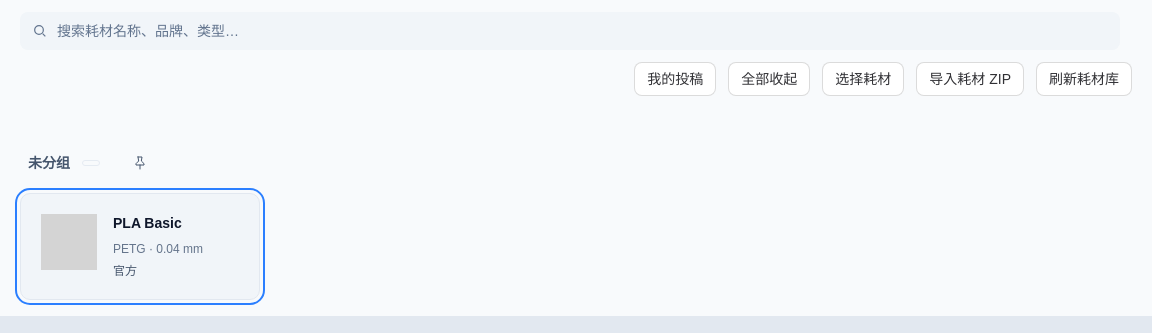
Scenario: MaterialLibraryPanel › renders saved materials from the material library API
The image size is (1152, 333).
Earlier steps of the test are not shown.
Later steps or results of the test are not shown.
Step 1. Click the button "选择耗材" → x=863, y=79, box [822,62,904,96]
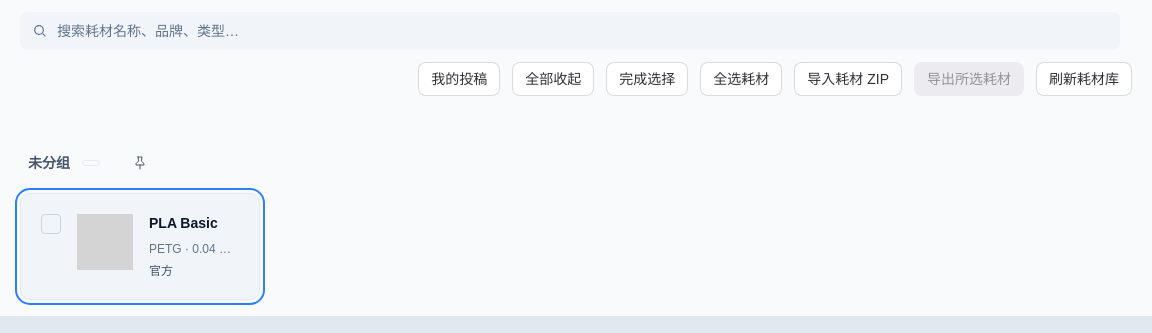
Step 2. Click the button with test id "material-library-item" → x=140, y=247, box [20,193,260,300]
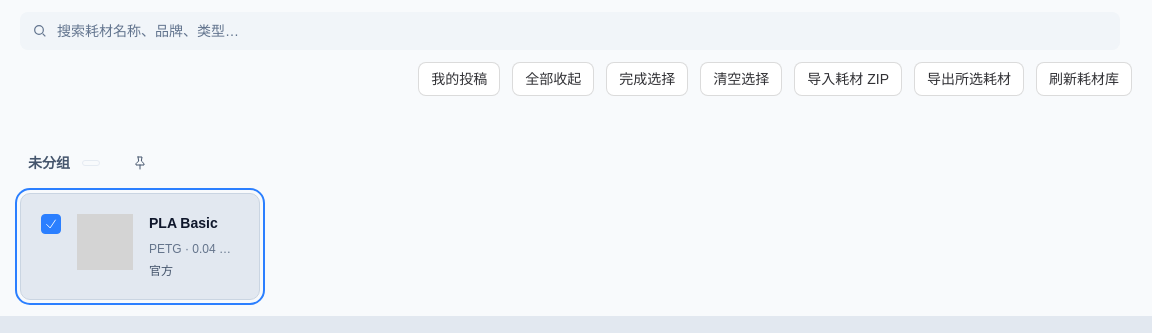
Now the button with test id "material-library-item" is pressed, box [20,193,260,300]
Step 3. Click the button "完成选择" → x=647, y=79, box [606,62,688,96]
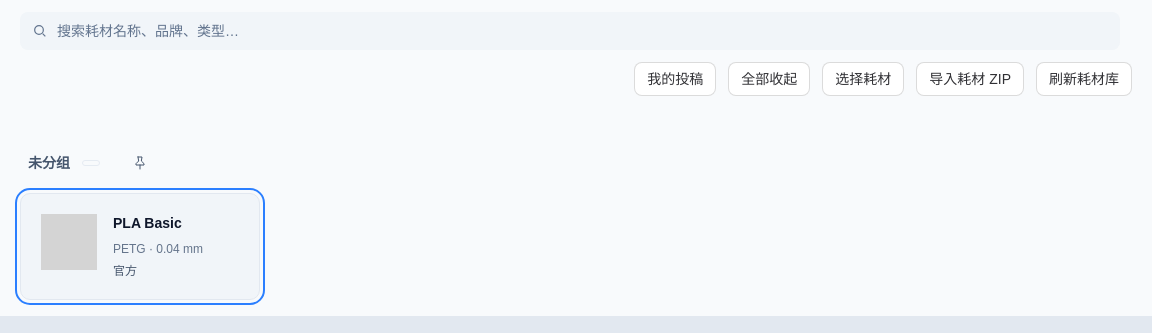
Now the button with test id "material-library-item" does not have attribute aria-pressed, box [20,193,260,300]
